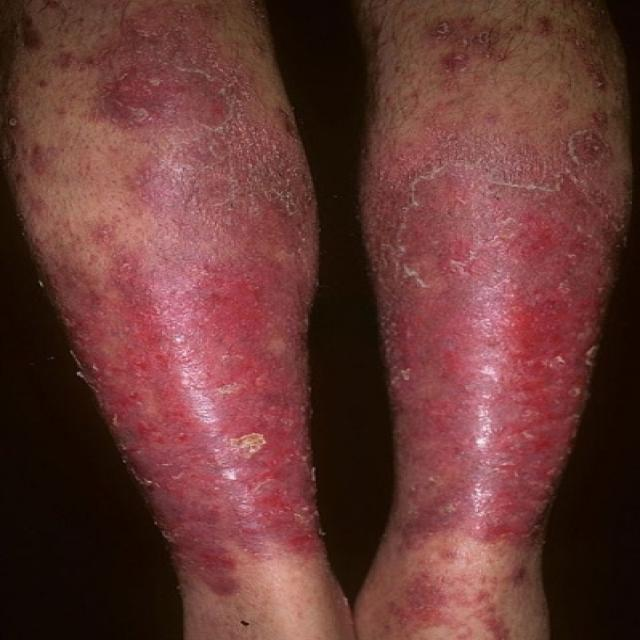Psoriasis Eritrodermica: (0, 0, 629, 639), (11, 0, 324, 598)
